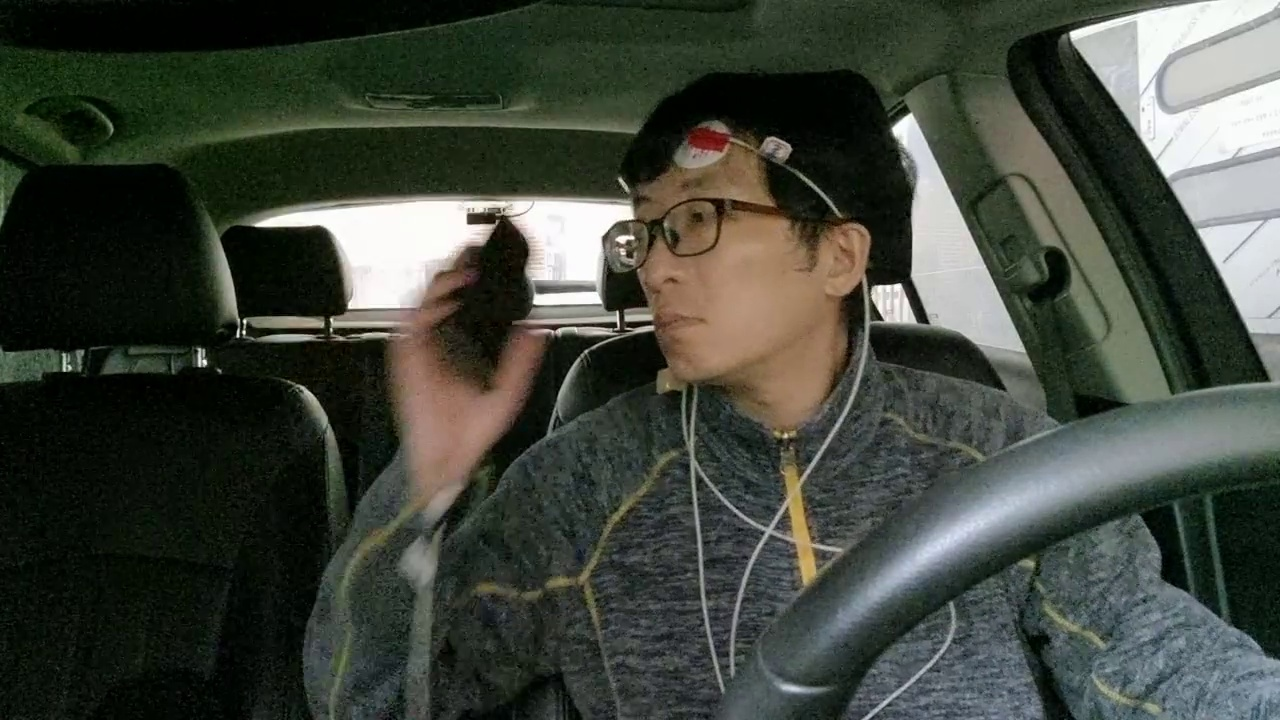phone: (391, 189, 565, 432)
